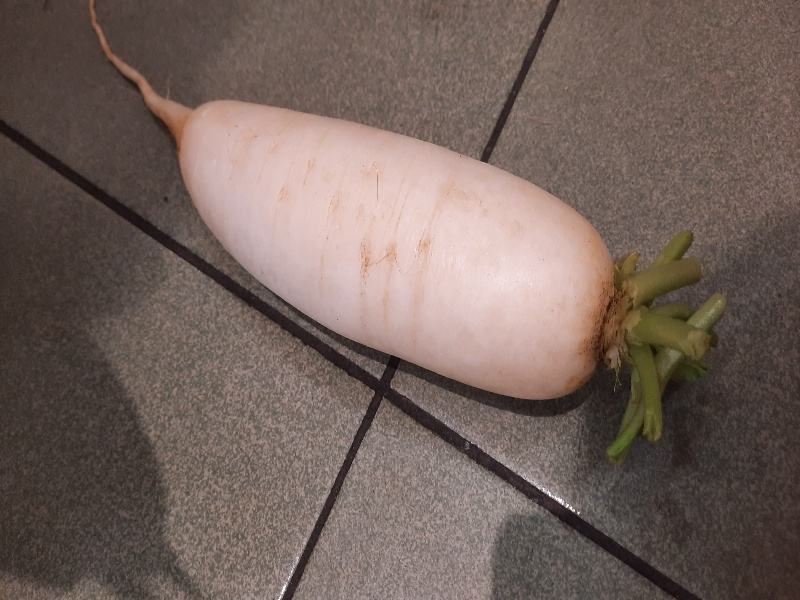vege: (99, 43, 716, 460)
